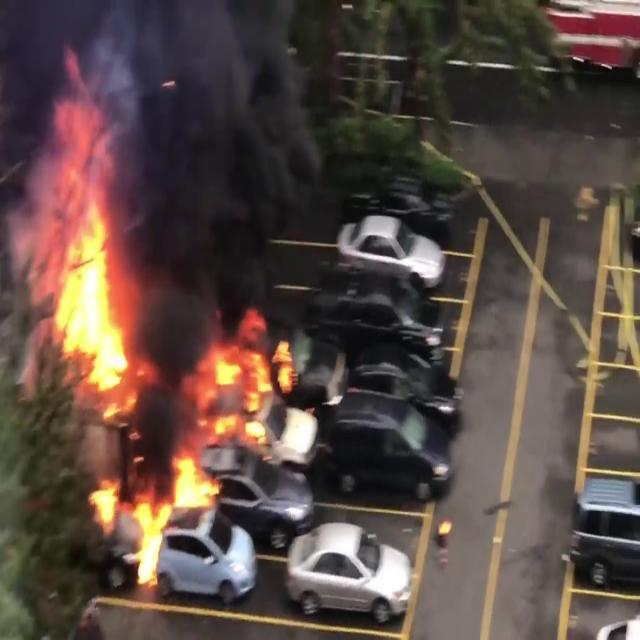Fire: (22, 90, 150, 407), (170, 312, 303, 498), (82, 452, 220, 585)
Smoke: (0, 0, 360, 340)
